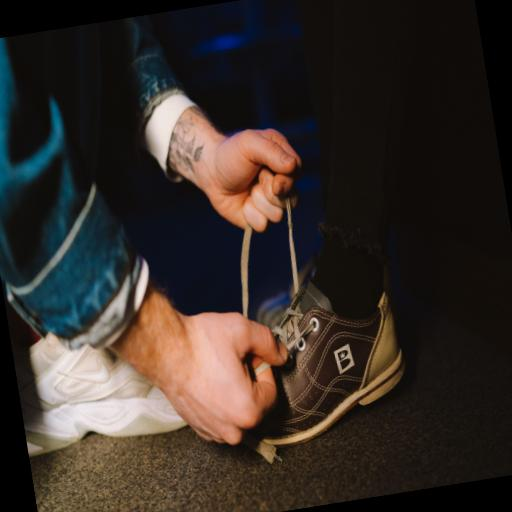shoe: (255, 282, 404, 446), (11, 334, 186, 456)
